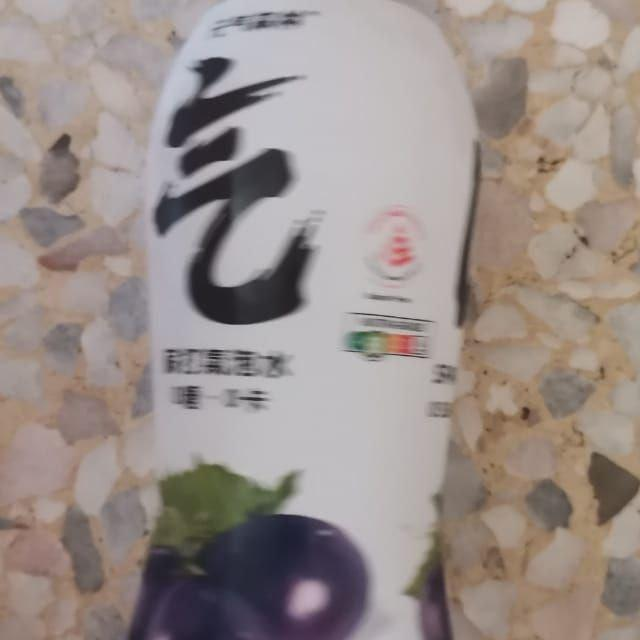plastic: (53, 0, 508, 640)
